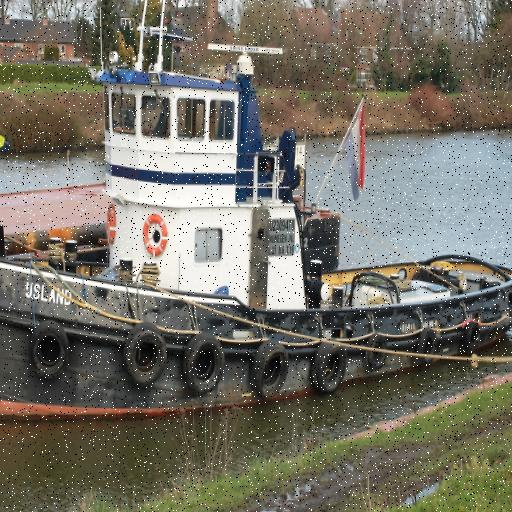tugboat: (1, 18, 512, 432)
